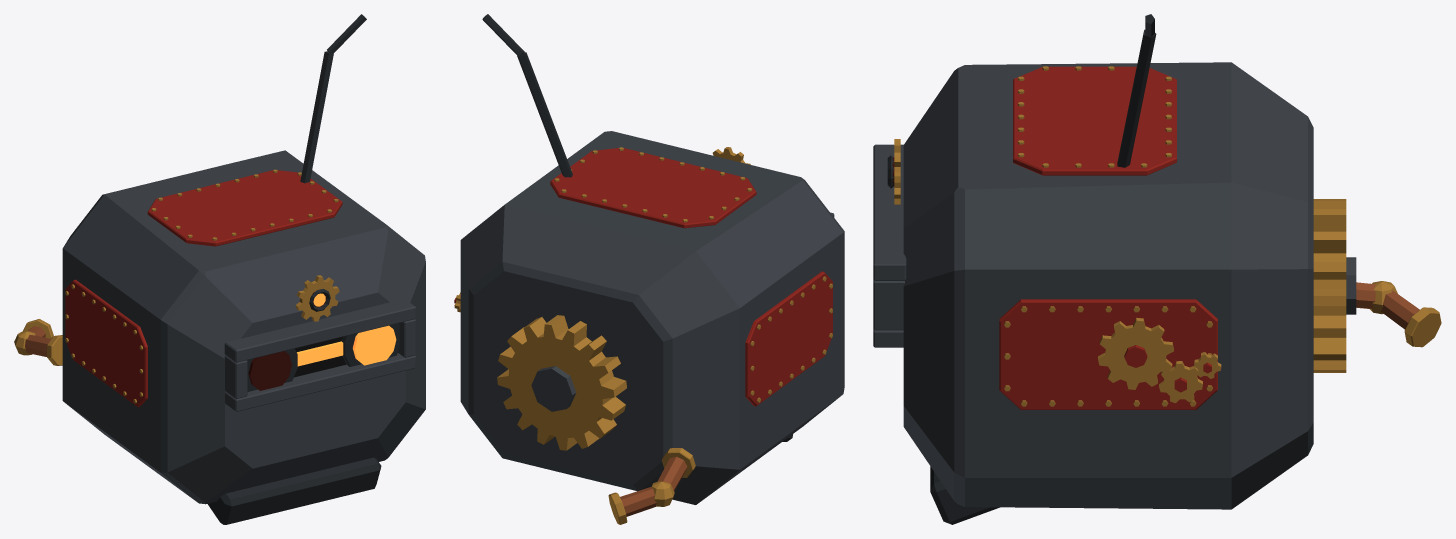
Rendered from cog_walker_skull.fbx.
3 views of the same model, side by side, from view 1: azimuth 30°, elevation 25°; view 2: azimuth 150°, elevation 25°; view 3: azimuth 270°, elevation 25° (orthographic). The views are drawn at different scales.
Parts seen in each view (by area): view 1: Body, Glow; view 2: Body; view 3: Body.
Boxes of the visible parts, bbox=[...] form: Body: bbox=[14, 14, 425, 524]; Glow: bbox=[297, 293, 396, 366]; Body: bbox=[454, 14, 844, 524]; Body: bbox=[873, 14, 1441, 524].
Bounding box in the file's own units: 16.21 × 22.32 × 20.78.
2 materials, 1 textured.
